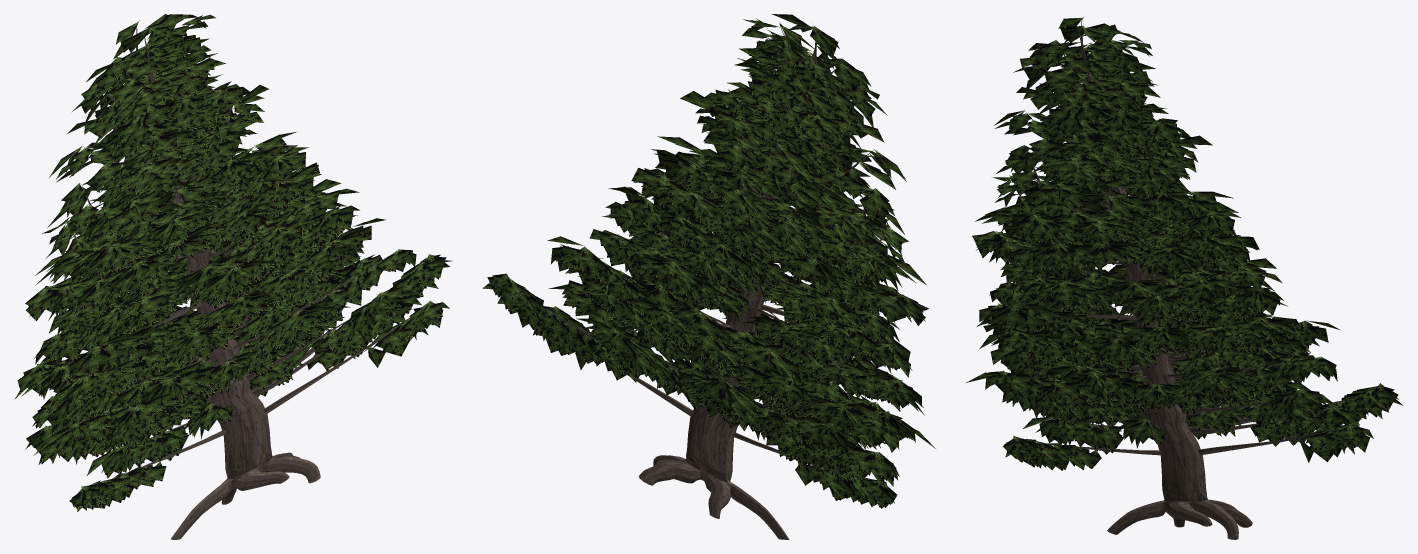
The model's file is needle1.obj.
The picture shows the model from 3 angles, left to right: view 1: azimuth 30°, elevation 25°; view 2: azimuth 150°, elevation 25°; view 3: azimuth 330°, elevation 25°; orthographic projection. The views are drawn at different scales.
Visible parts, largest first — view 1: (null).001; view 2: (null).001; view 3: (null).001.
Boxes of the visible parts, left/top/right/bottom form: (null).001: left=15, top=14, right=451, bottom=539; (null).001: left=482, top=14, right=935, bottom=539; (null).001: left=966, top=17, right=1402, bottom=539.
Size of the model in its own units: 544 by 625 by 83.36.
Materials: 4 (4 with a texture image).
